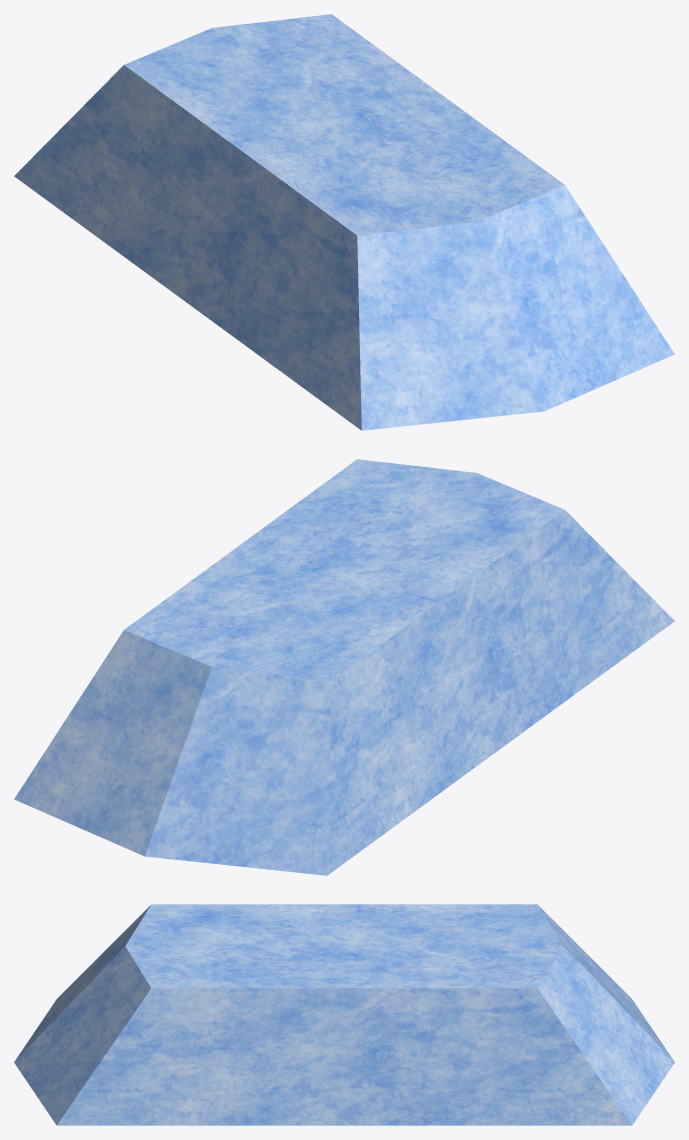
File: Barra_Celestial.fbx
The picture shows the model from 3 angles, top to bottom: view 1: azimuth 30°, elevation 25°; view 2: azimuth 150°, elevation 25°; view 3: azimuth 270°, elevation 25°; orthographic projection. The views are drawn at different scales.
Visible parts, largest first — view 1: Barra de Metal; view 2: Barra de Metal; view 3: Barra de Metal.
Boxes of the visible parts, <box> form: Barra de Metal: <box>14,14,674,430</box>; Barra de Metal: <box>14,459,674,875</box>; Barra de Metal: <box>14,904,674,1125</box>.
Size of the model in its own units: 21.32 by 9.13 by 47.09.
Materials: 1 (1 with a texture image).
